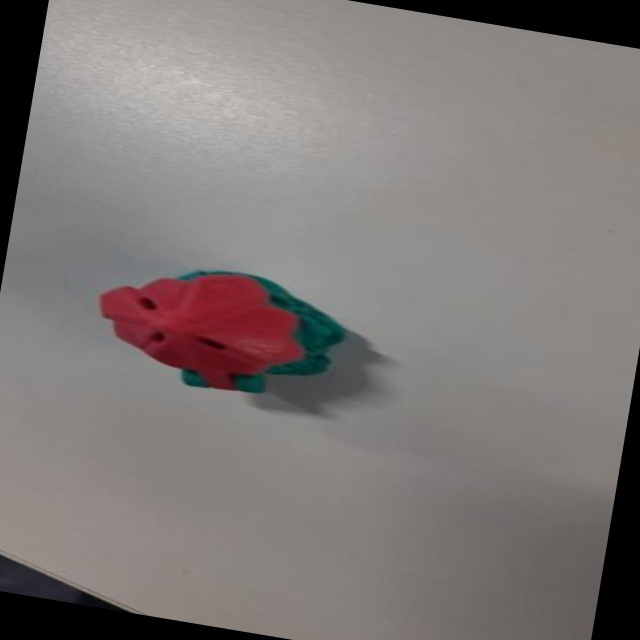House: (86, 242, 370, 411)
